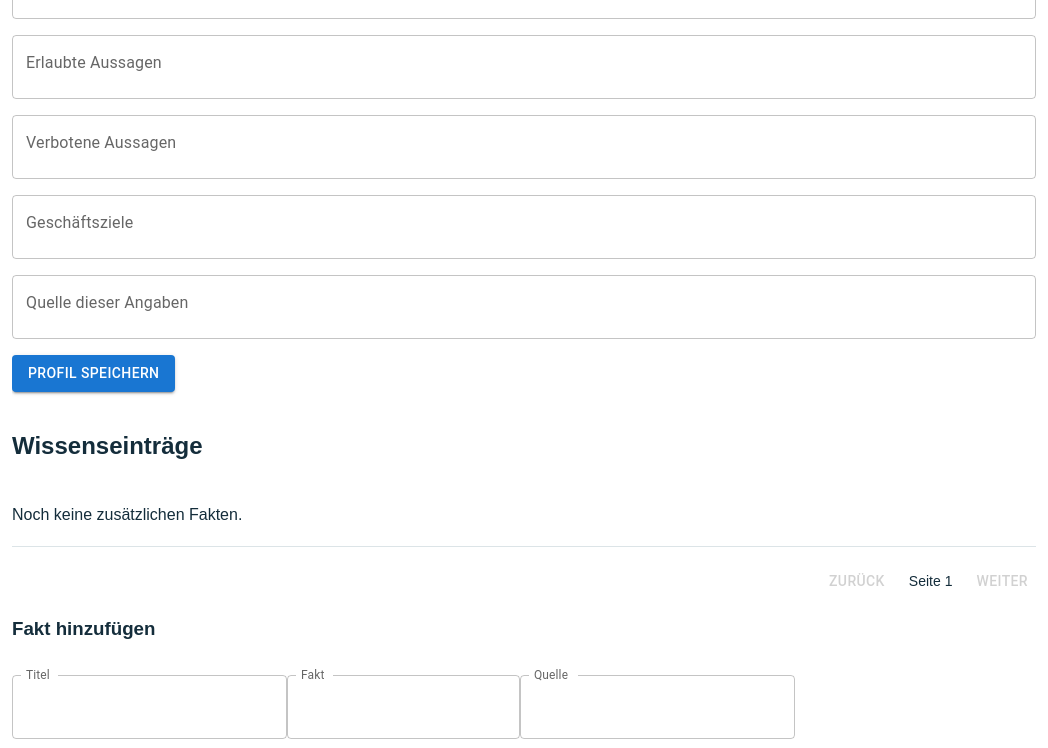
company profile validates required facts before mutation
(page scrolled)
Click the button "Profil speichern". click: (94, 374)
box: [12,356,176,392]
(page scrolled)
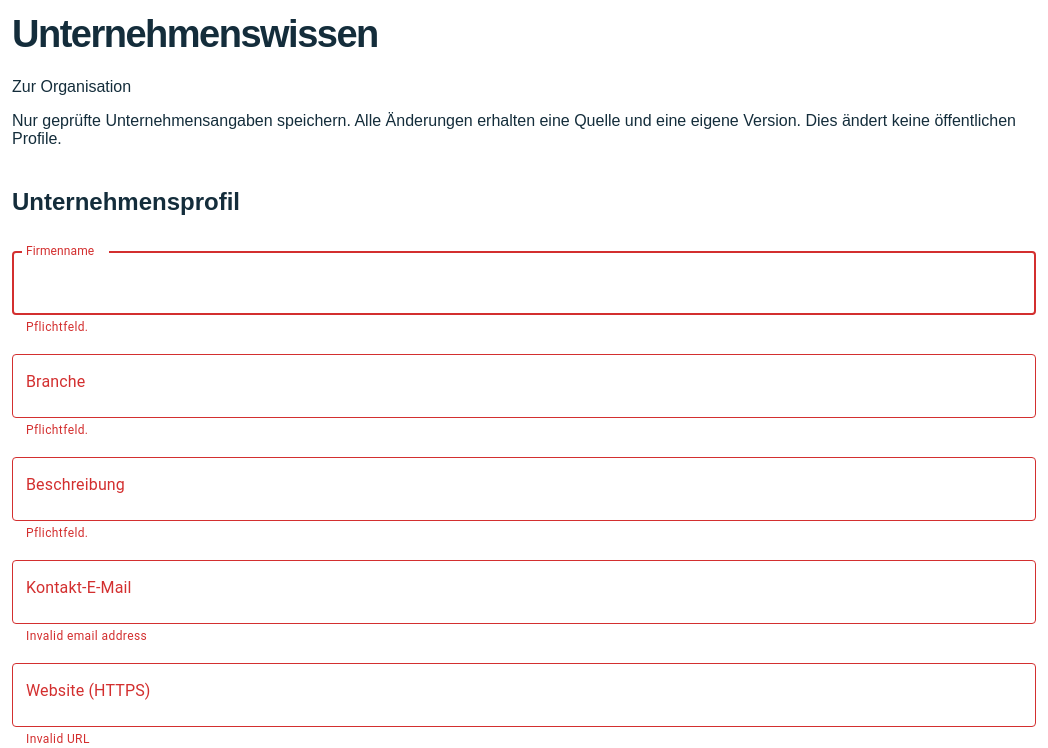
Now the text "Pflichtfeld." below "Firmenname" is shown, box [26,320,88,334]
